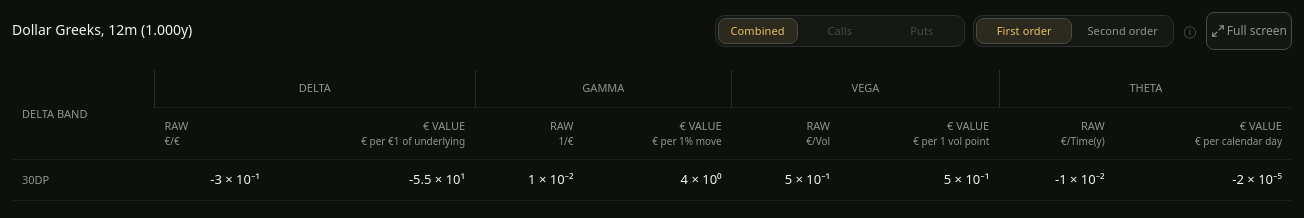
Test: DollarGreeksByMaturity › renders a labelled second-order table (vanna/volga/charm) when the cell carries them
The width and height of the screenshot is (1304, 218).
// The higher-order Greeks live behind the "Second order" group of the segmented control now.
What coordinates should you click on to do the following:
click the button "Second order"
I would click on:
 (1123, 31)
Its box is [1074, 18, 1171, 44].
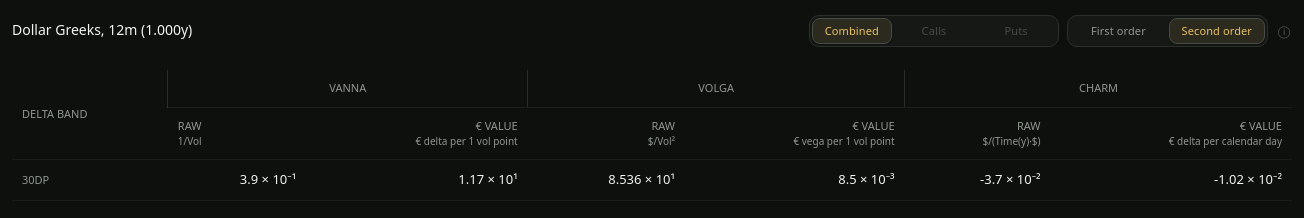
Now the column heading "vanna" is shown, box [168, 70, 528, 107]
Now the column heading "volga" is shown, box [528, 70, 905, 107]
Now the column heading "charm" is shown, box [905, 70, 1292, 107]
